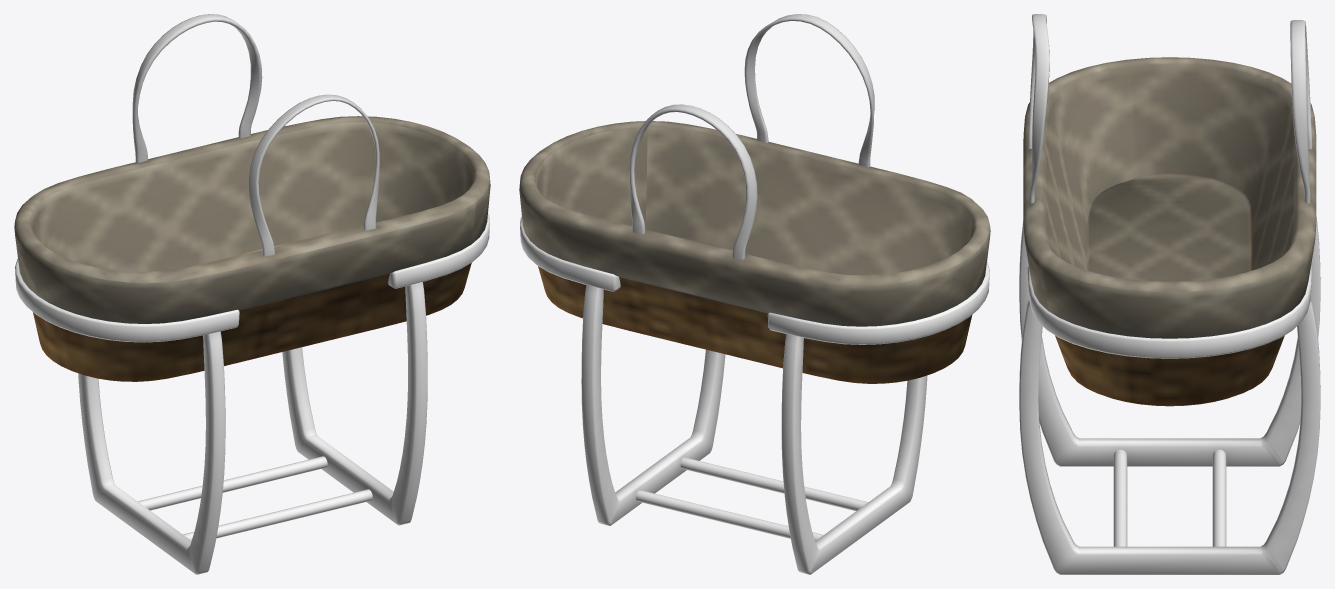
File: EE_BookRack_01.gltf
The picture shows the model from 3 angles, left to right: view 1: azimuth 30°, elevation 25°; view 2: azimuth 150°, elevation 25°; view 3: azimuth 270°, elevation 25°; orthographic projection. The views are drawn at different scales.
Visible parts, largest first — view 1: EE_BookRack_01.001; view 2: EE_BookRack_01.001; view 3: EE_BookRack_01.001.
Boxes of the visible parts, bbox=[...] form: EE_BookRack_01.001: bbox=[14, 14, 490, 574]; EE_BookRack_01.001: bbox=[519, 14, 990, 574]; EE_BookRack_01.001: bbox=[1019, 14, 1320, 574].
Size of what is drawn, in the model's own units: 0.8201 by 0.8179 by 0.4458.
Materials: 2 (2 with a texture image).
